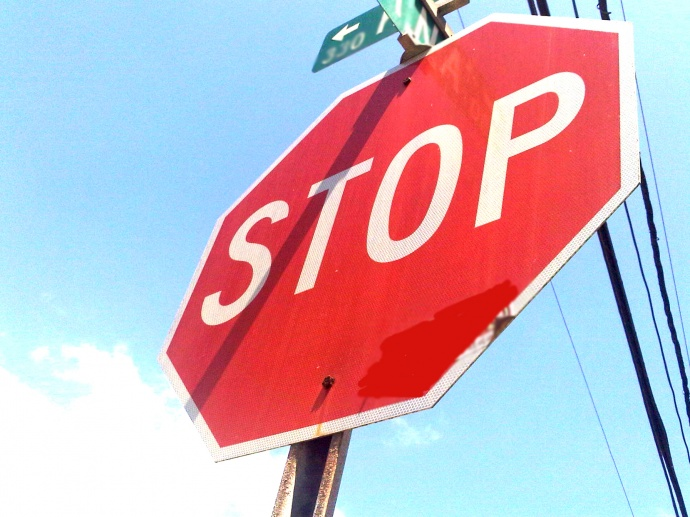stopsign: (158, 13, 643, 465)
